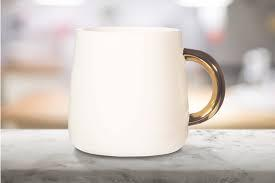Mug: (55, 15, 237, 165)
